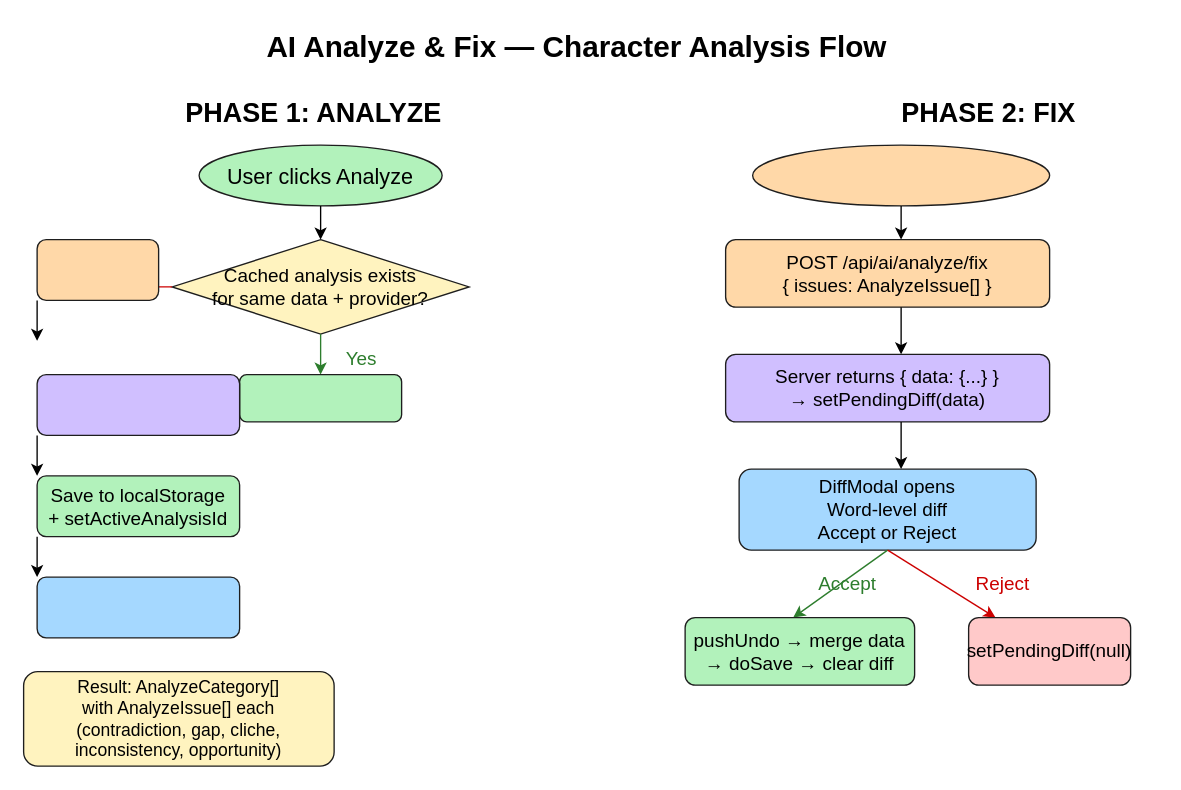
The diagram is 1181 pixels wide and 790 high, and some of its shapes have lost their labels. The centre of each missing label's shape, as x and y in pixels:
"AnalyzePanel categories + issues" belongs at (x=138, y=607).
"parseAnalyzeResponse → AnalyzeResult" belongs at (x=138, y=404).
"POST /api/ai/analyze SSE stream" belongs at (x=97, y=269).
"Return cached result" belongs at (x=320, y=397).
"User selects issues → Fix" belongs at (x=900, y=175).
